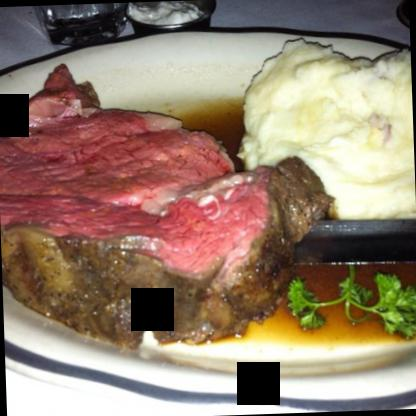beef: (0, 58, 340, 356)
